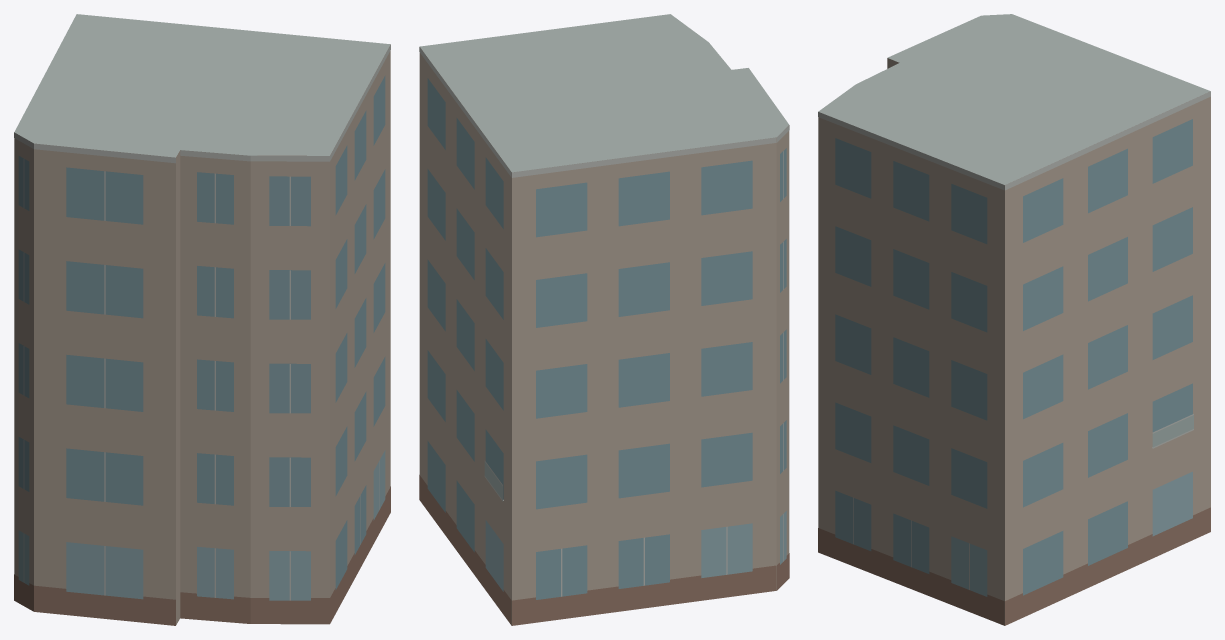
Rendered from survey-upis-33000576.glb.
3 views of the same model, side by side, from view 1: azimuth 30°, elevation 25°; view 2: azimuth 150°, elevation 25°; view 3: azimuth 270°, elevation 25° (orthographic). The views are drawn at different scales.
Parts seen in each view (by area): view 1: survey-upis-33000576.tmp; view 2: survey-upis-33000576.tmp; view 3: survey-upis-33000576.tmp.
Boxes of the visible parts, x1,y1,x2,y2 form: survey-upis-33000576.tmp: (14, 14, 390, 625); survey-upis-33000576.tmp: (419, 14, 789, 625); survey-upis-33000576.tmp: (818, 14, 1210, 625).
Bounding box in the file's own units: 16.64 × 19.97 × 16.13.
